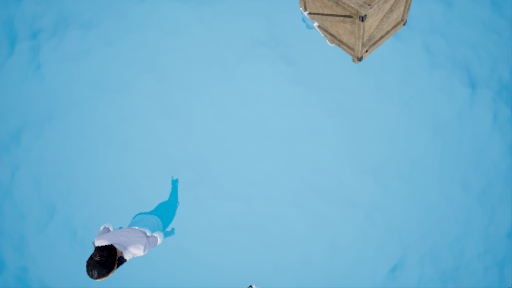person: (79, 177, 192, 278)
